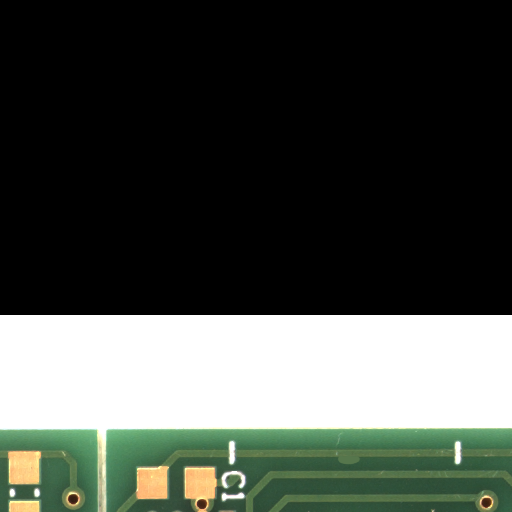Spur: (349, 459, 378, 470)
